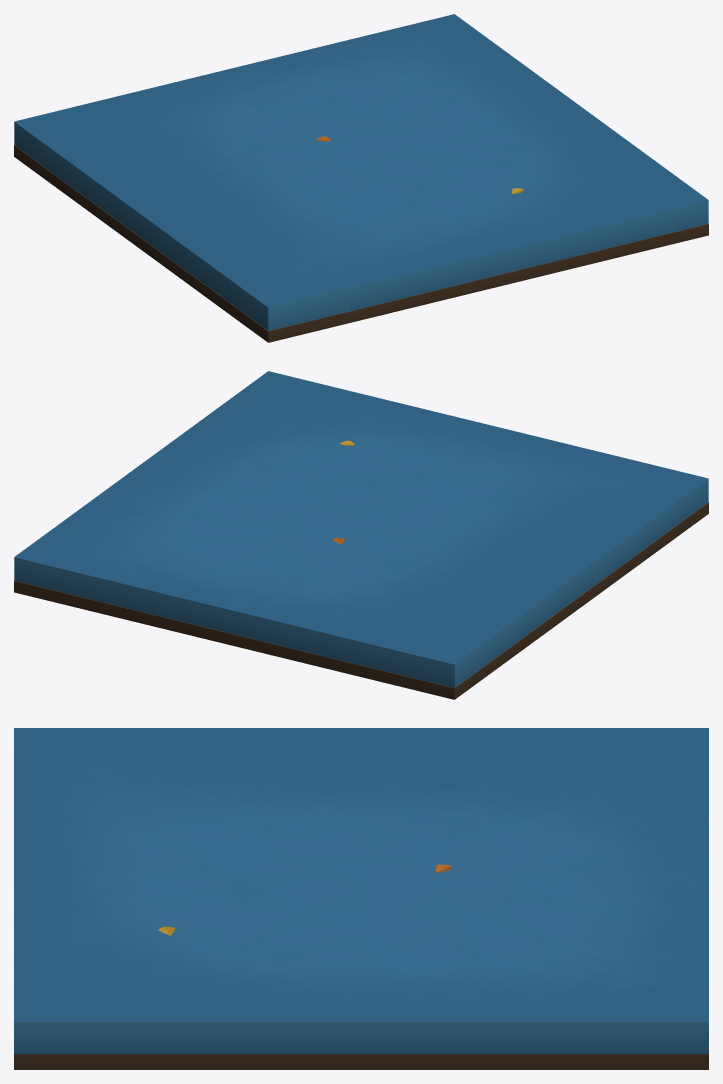
File: lake-open-water.glb
3 views of the same model, one above another, from view 1: azimuth 30°, elevation 25°; view 2: azimuth 150°, elevation 25°; view 3: azimuth 270°, elevation 25° (orthographic). The views are drawn at different scales.
Parts seen in each view (by area): view 1: lake_open_water; view 2: lake_open_water; view 3: lake_open_water.
Part boxes in pixels (bbox=[...]): lake_open_water: bbox=[14, 14, 708, 342]; lake_open_water: bbox=[14, 371, 708, 699]; lake_open_water: bbox=[14, 728, 708, 1069].
Bounding box in the file's own units: 4 × 0.3216 × 4.
